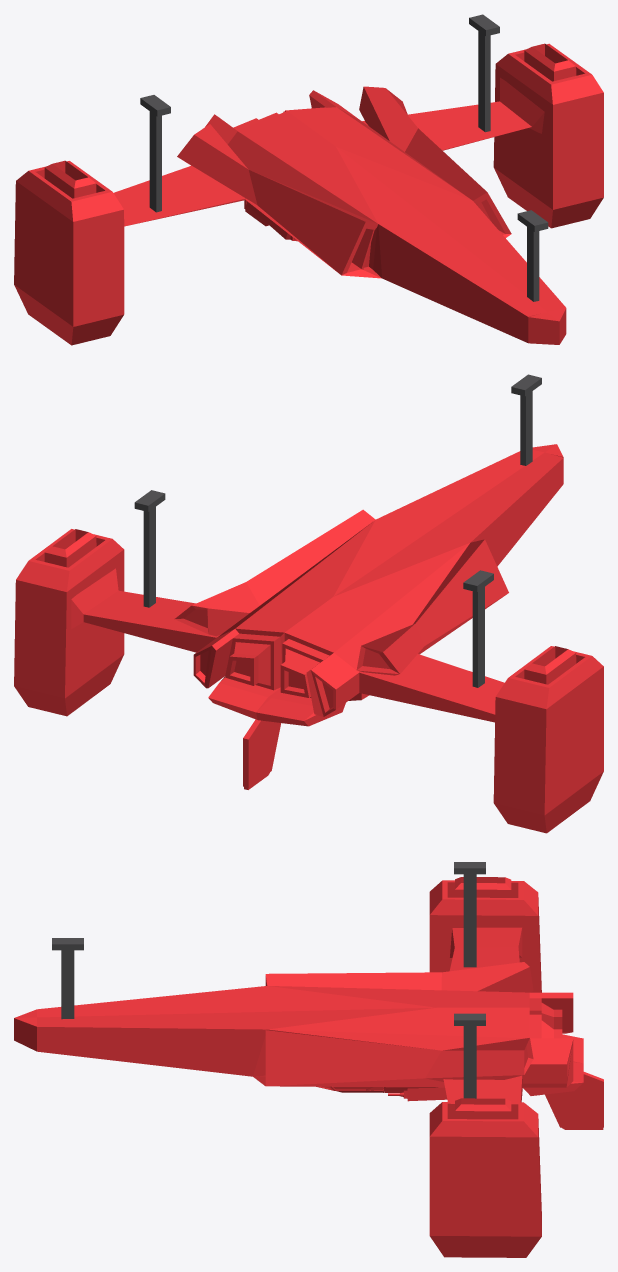
Rendered from ship.fbx.
3 renders of one model, top to bottom at view 1: azimuth 30°, elevation 25°; view 2: azimuth 150°, elevation 25°; view 3: azimuth 270°, elevation 25°, orthographic. The views are drawn at different scales.
Visible parts, largest first — view 1: Cube.001, Tr, Tr.001, LandingGearL, LandingGearR, LandingGearf; view 2: Cube.001, Tr, Tr.001, LandingGearL, LandingGearR, LandingGearf; view 3: Cube.001, Tr.001, Tr, LandingGearR, LandingGearL, LandingGearf.
Part boxes in pixels (x1,y1,x2,y2): Cube.001: (113, 77, 566, 344); Tr: (14, 160, 124, 345); Tr.001: (493, 43, 603, 228); LandingGearL: (469, 14, 499, 132); LandingGearR: (140, 95, 170, 212); LandingGearf: (517, 210, 548, 301); Cube.001: (71, 444, 563, 789); Tr: (493, 646, 603, 833); Tr.001: (14, 529, 124, 716); LandingGearL: (134, 490, 165, 607); LandingGearR: (463, 570, 493, 687); LandingGearf: (511, 374, 541, 465); Cube.001: (14, 927, 603, 1129); Tr.001: (429, 1098, 541, 1257); Tr: (429, 877, 541, 992); LandingGearR: (454, 862, 485, 967); LandingGearL: (454, 1013, 485, 1098); LandingGearf: (52, 938, 83, 1019).
Size of the model in its own units: 1884 by 711 by 1917.
